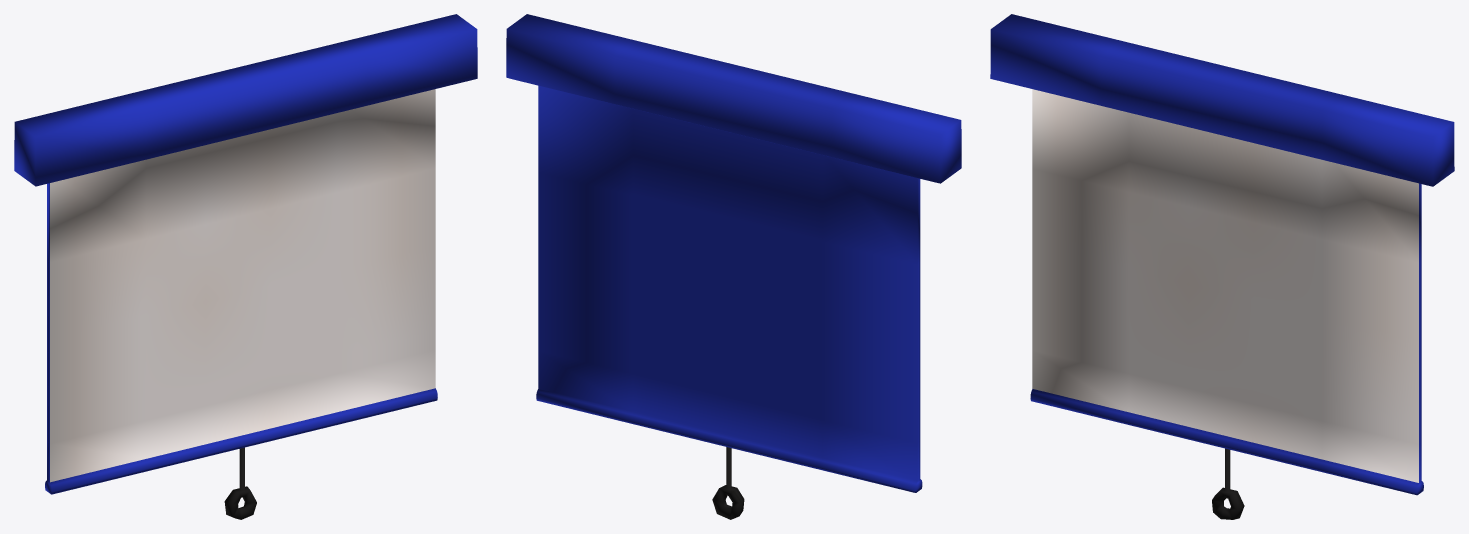
The model's file is Painel.fbx.
3 views of the same model, side by side, from view 1: azimuth 30°, elevation 25°; view 2: azimuth 150°, elevation 25°; view 3: azimuth 330°, elevation 25° (orthographic).
Parts seen in each view (by area): view 1: Painel; view 2: Painel; view 3: Painel.
Boxes of the visible parts, bbox=[...] form: Painel: bbox=[14, 14, 477, 519]; Painel: bbox=[506, 14, 961, 519]; Painel: bbox=[990, 14, 1454, 519].
Size of the model in its own units: 176 by 171 by 14.78.
1 material, 1 textured.
